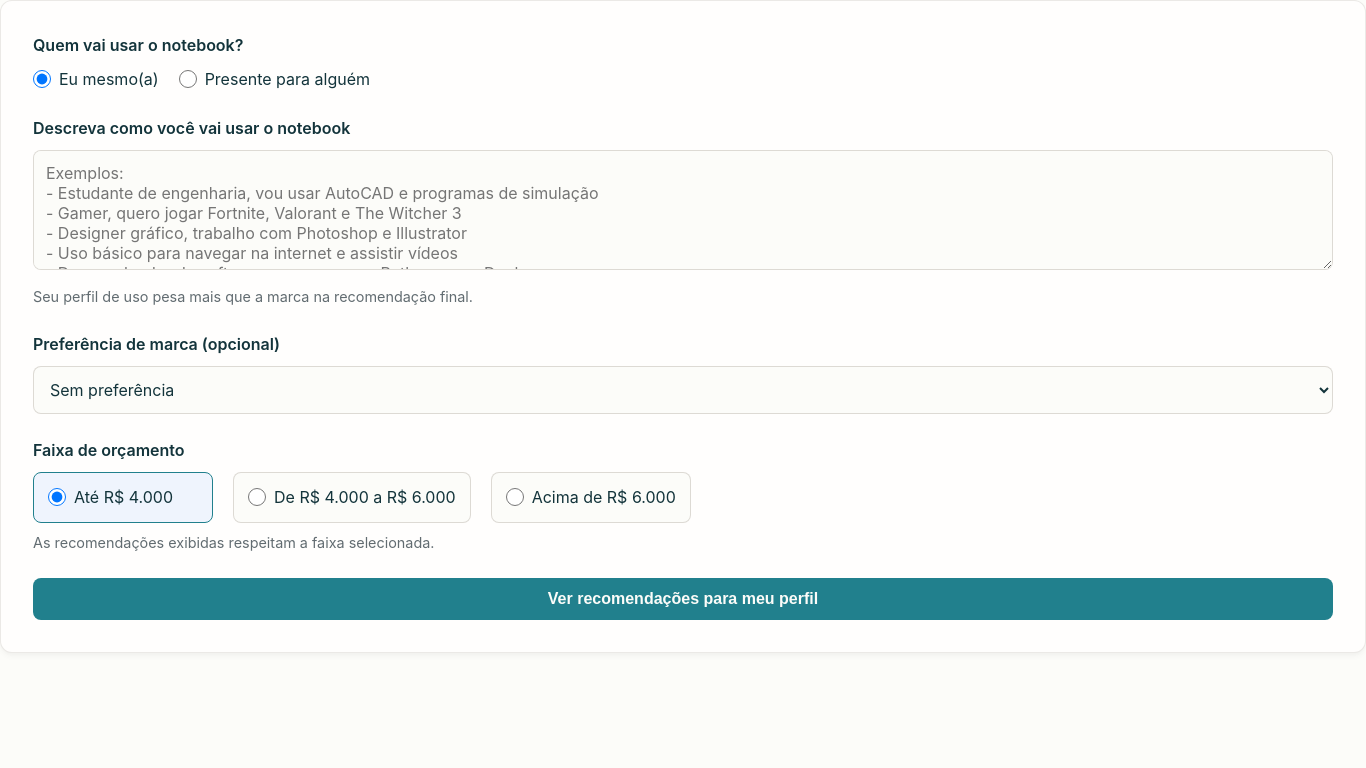
Test case: FinderSection (integration) › shows a rephrase message and no recommendations for nonsense usage
Type "i want to do a barbecue" into the text box labelled "Descreva como você vai usar o notebook". click: (683, 210)
box: [33,150,1333,270]
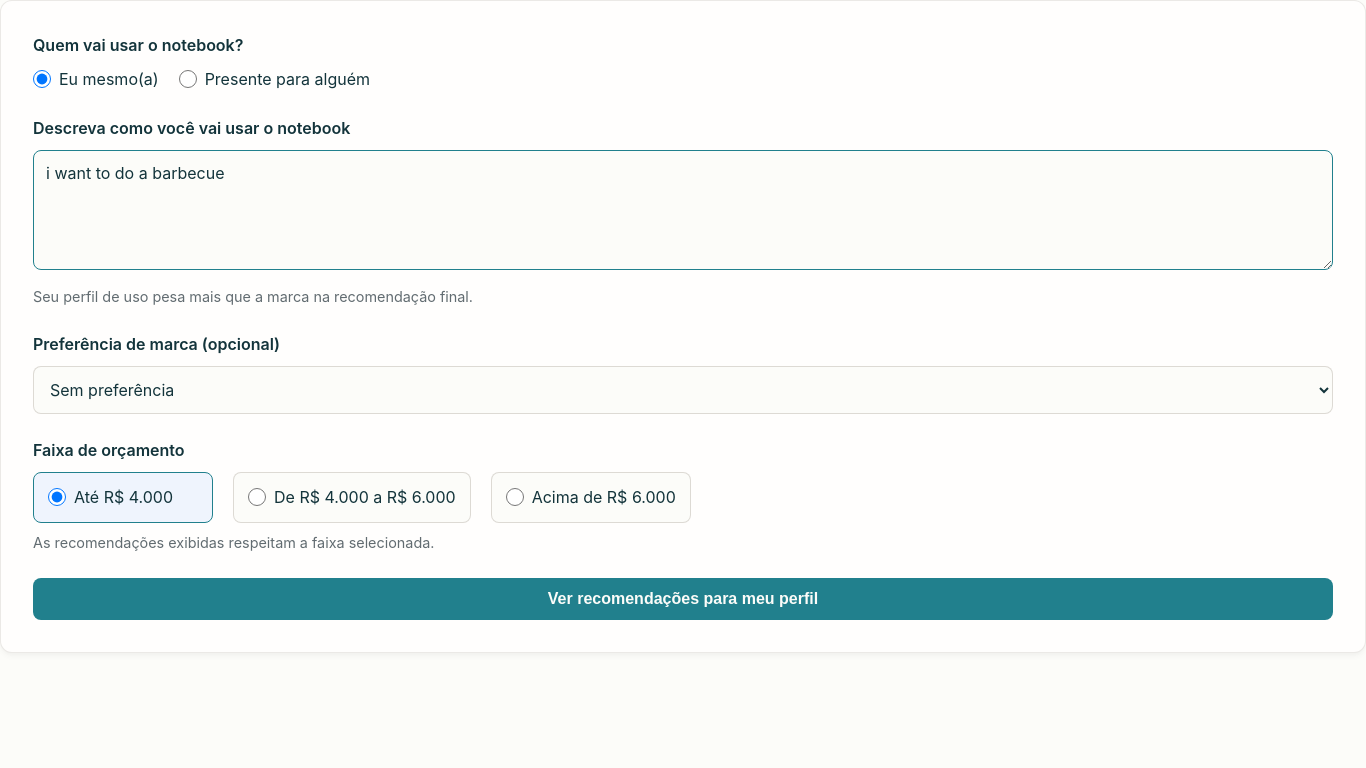
Click the button "Ver recomendações para meu perfil". click: (683, 599)
box: [33,578,1333,620]
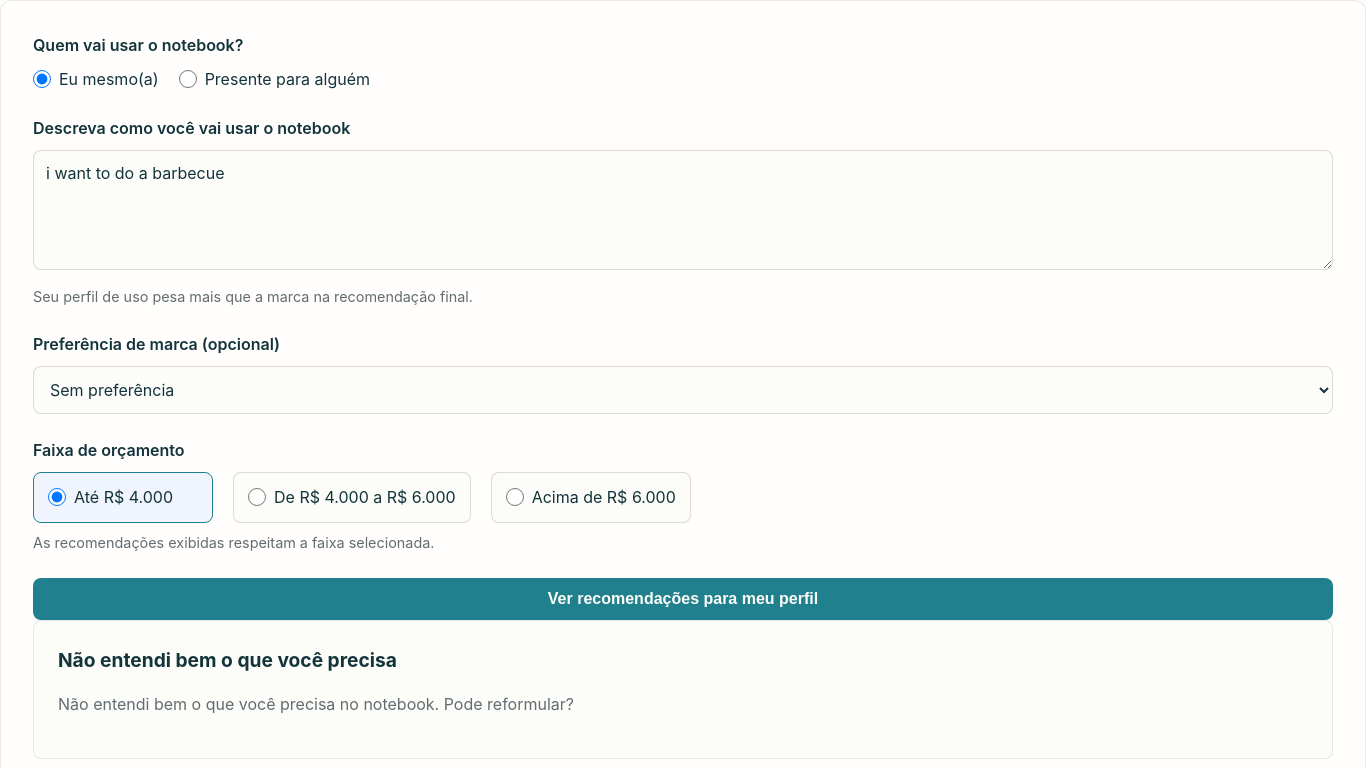
Expected: the message is shown, [33,620,1333,759]
Expected: the text "Pode reformular" is shown, [58,694,574,714]
